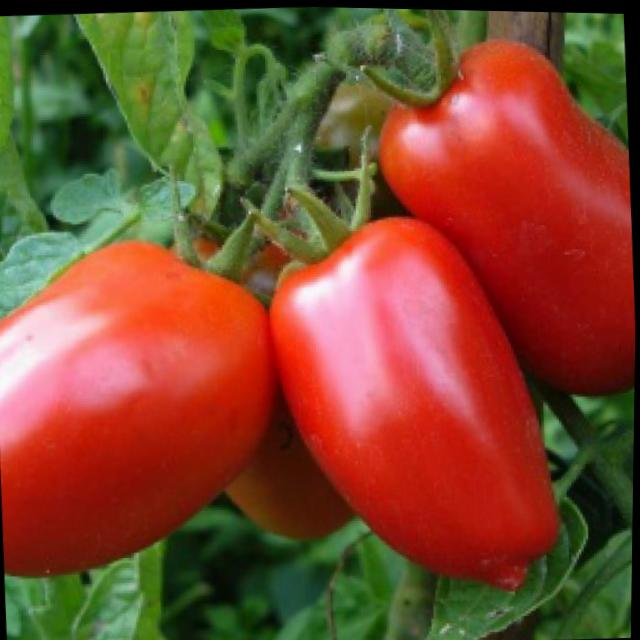tomato: (262, 205, 569, 604), (0, 235, 290, 584), (370, 31, 640, 405)
